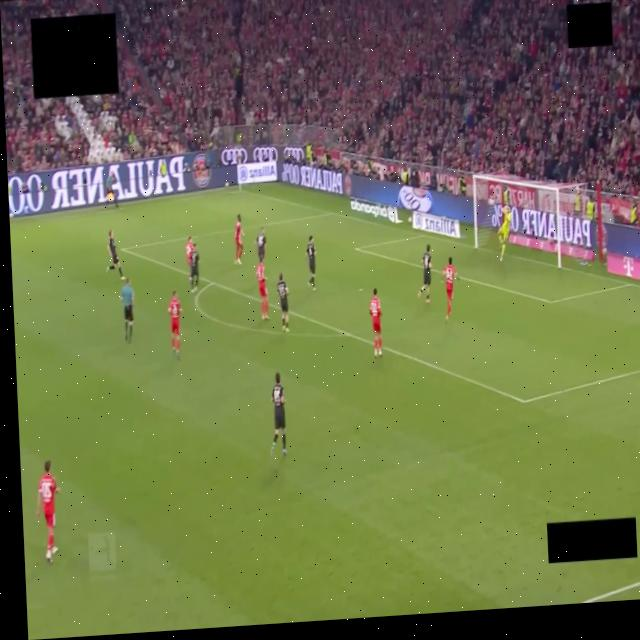player: (36, 461, 58, 562), (271, 374, 286, 454), (442, 258, 458, 321), (106, 230, 124, 280), (167, 290, 180, 359), (417, 244, 431, 304), (369, 288, 381, 357), (497, 205, 510, 261), (276, 273, 288, 332), (256, 262, 268, 319), (306, 236, 315, 291), (189, 244, 199, 292), (234, 215, 243, 264), (255, 228, 266, 262), (106, 174, 117, 207), (185, 236, 192, 283)
referee: (120, 279, 133, 343)
